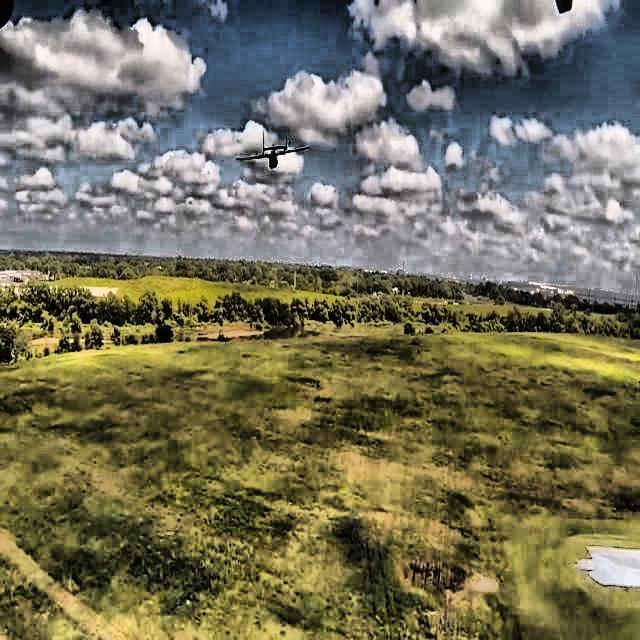iha: (260, 131, 290, 179)
